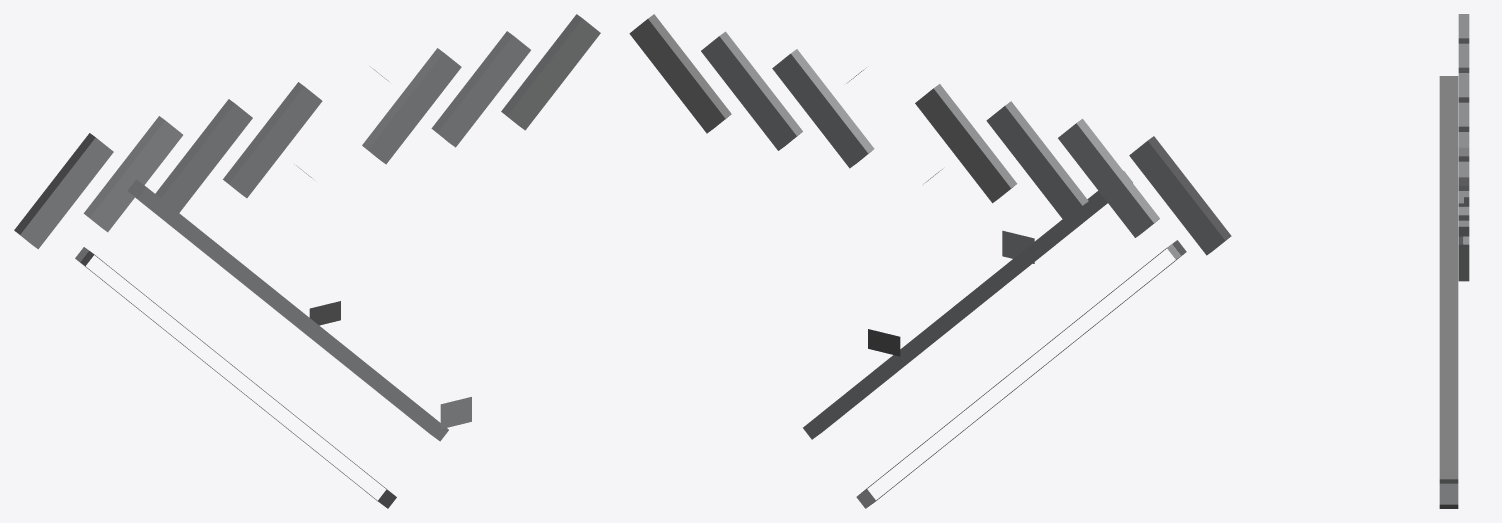
3 views of the same model, side by side, from view 1: azimuth 30°, elevation 25°; view 2: azimuth 150°, elevation 25°; view 3: azimuth 270°, elevation 25° (orthographic). The views are drawn at different scales.
Size of the model in its own units: 1.15 by 0.8209 by 0.4505.
